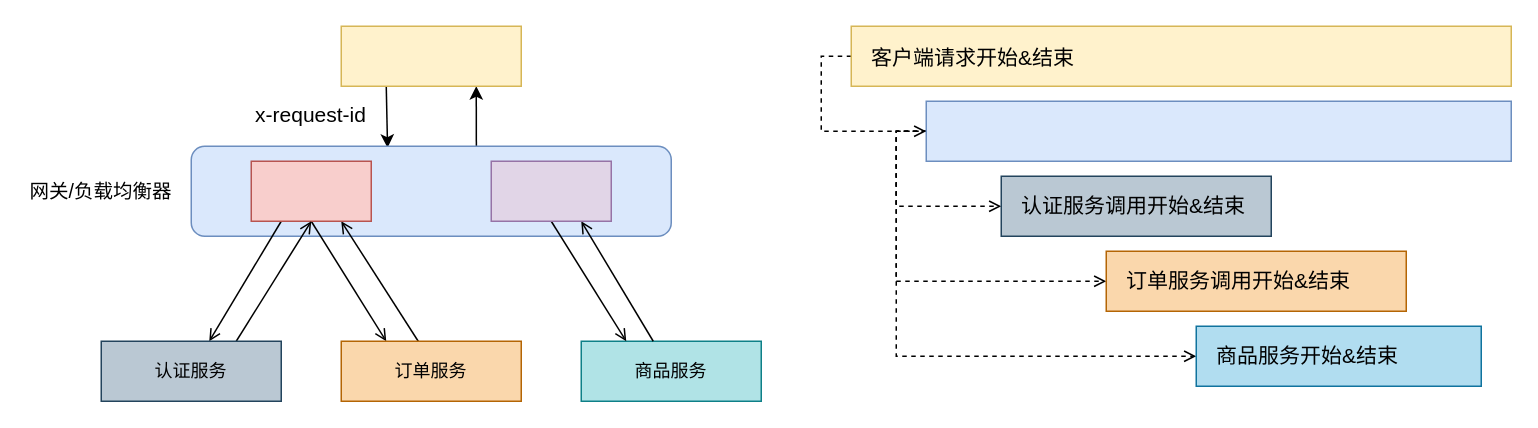
The diagram is 1538 pixels wide and 428 high, and some of its shapes have lost their labels. Each missing label, with the centre of its shape:
API: the point at 550,190
Client: the point at 430,55
RPC: the point at 310,190
网关/负载均衡器开始&结束: the point at 1218,130
